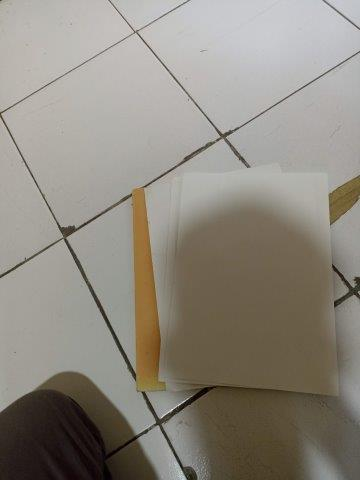kertas: (133, 164, 338, 396)
